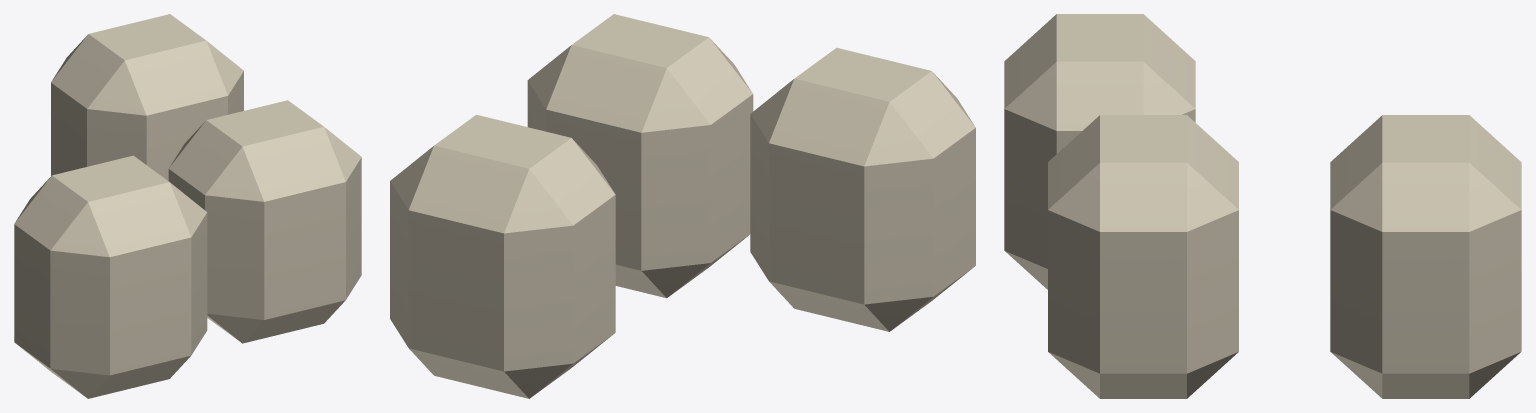
The model's file is sacks.glb.
3 renders of one model, left to right at view 1: azimuth 30°, elevation 25°; view 2: azimuth 150°, elevation 25°; view 3: azimuth 270°, elevation 25°, orthographic. The views are drawn at different scales.
Visible parts, largest first — view 1: sack; view 2: sack; view 3: sack.
Part boxes in pixels (bbox=[...]): sack: bbox=[14, 14, 361, 398]; sack: bbox=[390, 14, 975, 398]; sack: bbox=[1004, 14, 1521, 398].
Size of the model in its own units: 1.05 by 0.6 by 1.19.
